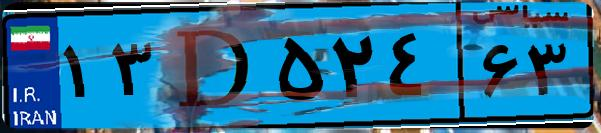1: (57, 26, 110, 100)
2: (330, 28, 385, 110)
3: (525, 38, 570, 115), (110, 28, 158, 98)
4: (385, 28, 445, 110)
5: (270, 28, 330, 110)
6: (475, 38, 525, 113)
D: (158, 12, 270, 120)
